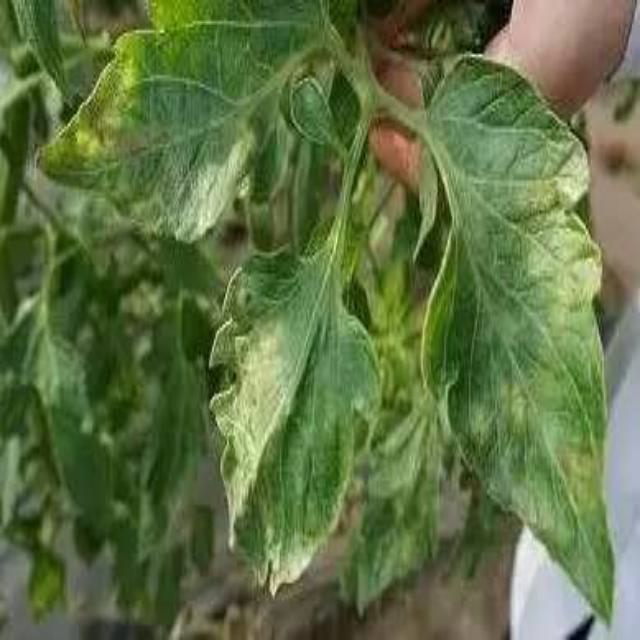Leaf_Mold: (207, 264, 358, 600), (509, 132, 605, 311), (544, 422, 611, 525)
